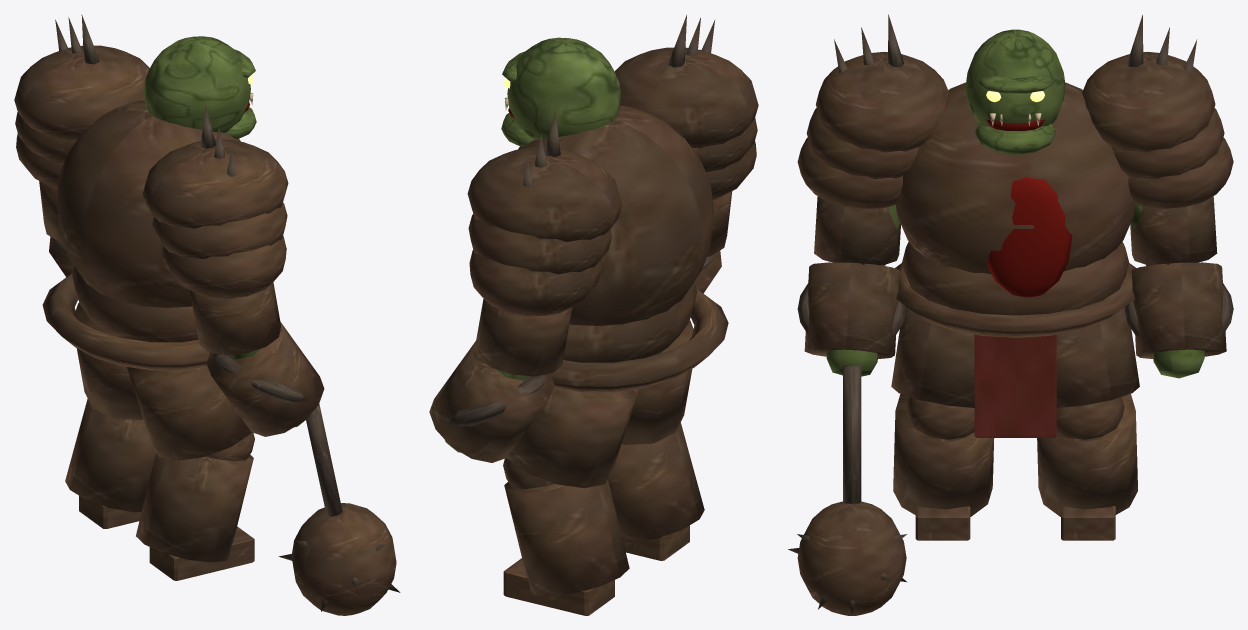
The model's file is boss_dreadnought.glb.
3 renders of one model, left to right at view 1: azimuth 30°, elevation 25°; view 2: azimuth 150°, elevation 25°; view 3: azimuth 270°, elevation 25°, orthographic. The views are drawn at different scales.
Parts seen in each view (by area): view 1: boss_dreadnought; view 2: boss_dreadnought; view 3: boss_dreadnought.
Part boxes in pixels (x1,y1,x2,y2): boss_dreadnought: (14, 14, 400, 615); boss_dreadnought: (429, 15, 758, 615); boss_dreadnought: (788, 14, 1233, 615).
Size of the model in its own units: 1.6 by 3.2 by 2.38.
7 materials, 5 textured.
